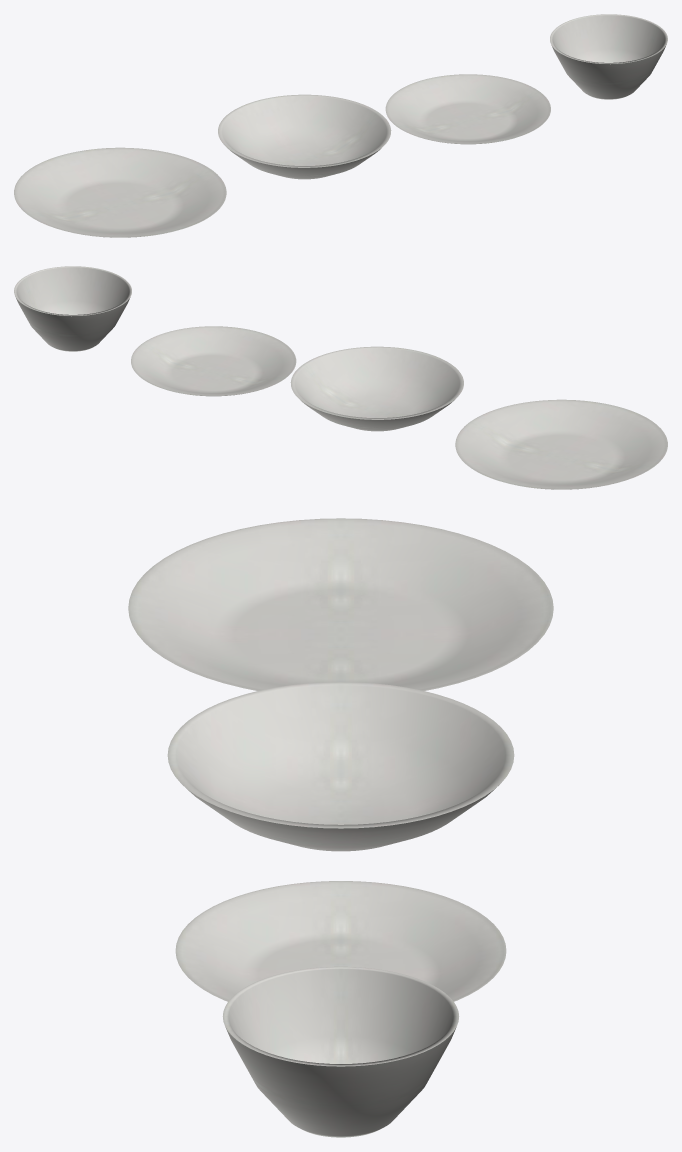
The model's file is RAY-07.glb.
The picture shows the model from 3 angles, top to bottom: view 1: azimuth 30°, elevation 25°; view 2: azimuth 150°, elevation 25°; view 3: azimuth 270°, elevation 25°; orthographic projection. The views are drawn at different scales.
Bounding box in the file's own units: 0.926 × 0.07 × 0.27.
8 materials, 8 textured.
